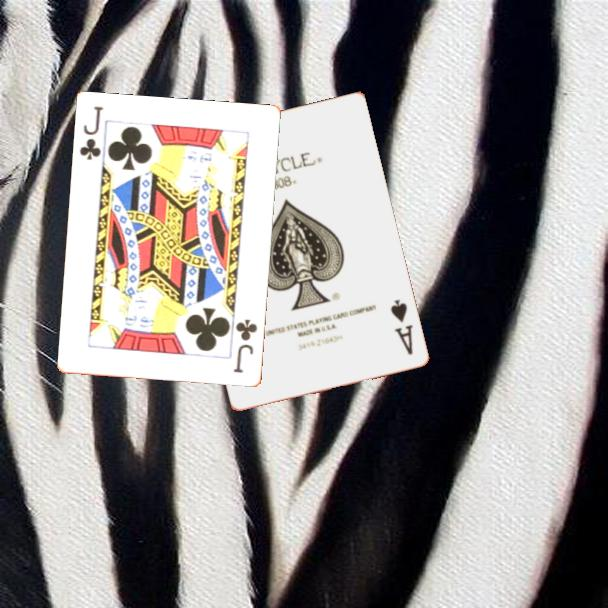c11: (230, 316, 260, 376), (76, 103, 106, 163)
s01: (387, 296, 415, 358)
